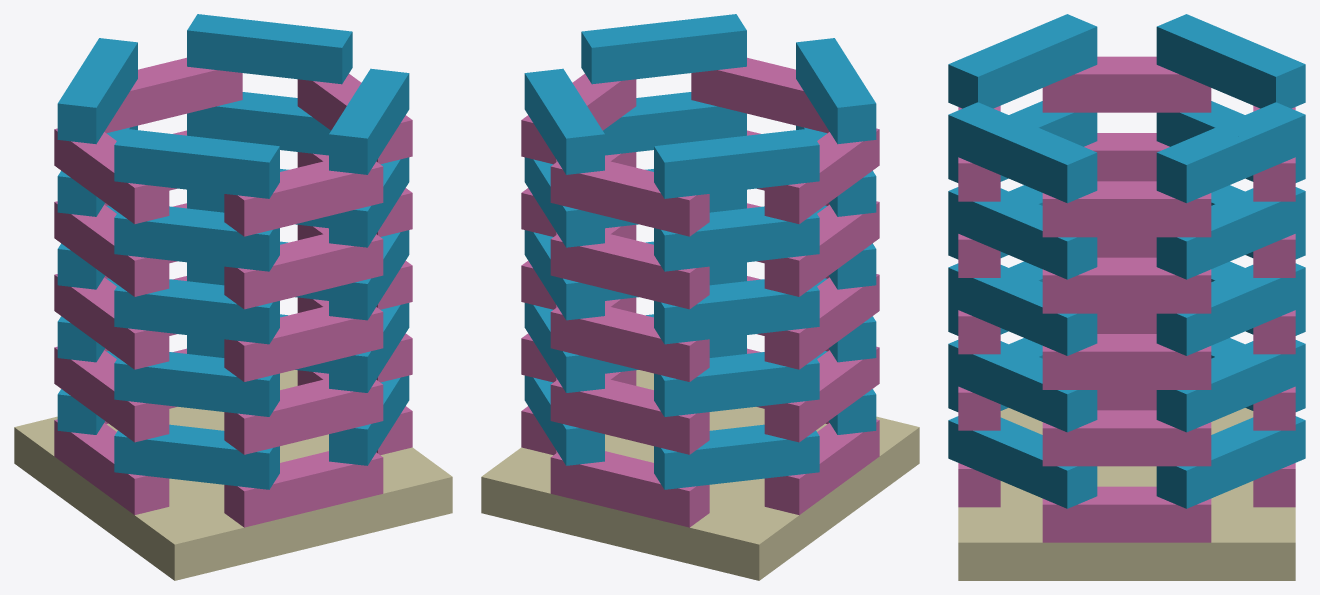
The picture shows the model from 3 angles, left to right: view 1: azimuth 30°, elevation 25°; view 2: azimuth 150°, elevation 25°; view 3: azimuth 270°, elevation 25°; orthographic projection. The views are drawn at different scales.
Parts seen in each view (by area): view 1: Null, Null_10, Null_1, Null_2, Null_3, Null_7, Null_9, Null_5, Null_4, Null_8, Null_6; view 2: Null, Null_10, Null_1, Null_2, Null_3, Null_7, Null_9, Null_5, Null_4, Null_8, Null_6; view 3: Null, Null_10, Null_2, Null_1, Null_8, Null_4, Null_6, Null_3, Null_9, Null_7, Null_5.
Boxes of the visible parts, x1=… form: Null: x1=57, y1=14, x2=409, y2=198; Null_10: x1=14, y1=370, x2=452, y2=580; Null_1: x1=54, y1=57, x2=412, y2=236; Null_2: x1=57, y1=92, x2=409, y2=271; Null_3: x1=54, y1=130, x2=412, y2=309; Null_7: x1=54, y1=276, x2=412, y2=454; Null_9: x1=54, y1=348, x2=412, y2=527; Null_5: x1=54, y1=203, x2=412, y2=381; Null_4: x1=57, y1=169, x2=409, y2=344; Null_8: x1=57, y1=314, x2=409, y2=489; Null_6: x1=57, y1=241, x2=409, y2=416; Null: x1=524, y1=14, x2=876, y2=198; Null_10: x1=481, y1=370, x2=919, y2=580; Null_1: x1=521, y1=57, x2=879, y2=236; Null_2: x1=524, y1=92, x2=876, y2=271; Null_3: x1=521, y1=130, x2=879, y2=309; Null_7: x1=521, y1=276, x2=879, y2=454; Null_9: x1=521, y1=348, x2=879, y2=527; Null_5: x1=521, y1=203, x2=879, y2=381; Null_4: x1=524, y1=169, x2=876, y2=344; Null_8: x1=524, y1=314, x2=876, y2=489; Null_6: x1=524, y1=241, x2=876, y2=416; Null: x1=948, y1=14, x2=1305, y2=203; Null_10: x1=958, y1=408, x2=1295, y2=580; Null_2: x1=948, y1=101, x2=1305, y2=279; Null_1: x1=958, y1=56, x2=1295, y2=237; Null_8: x1=948, y1=338, x2=1305, y2=508; Null_4: x1=948, y1=185, x2=1305, y2=355; Null_6: x1=948, y1=261, x2=1305, y2=432; Null_3: x1=958, y1=133, x2=1295, y2=313; Null_9: x1=958, y1=390, x2=1295, y2=542; Null_7: x1=958, y1=313, x2=1295, y2=466; Null_5: x1=958, y1=237, x2=1295, y2=389.
Size of the model in its own units: 764 by 990 by 764.
